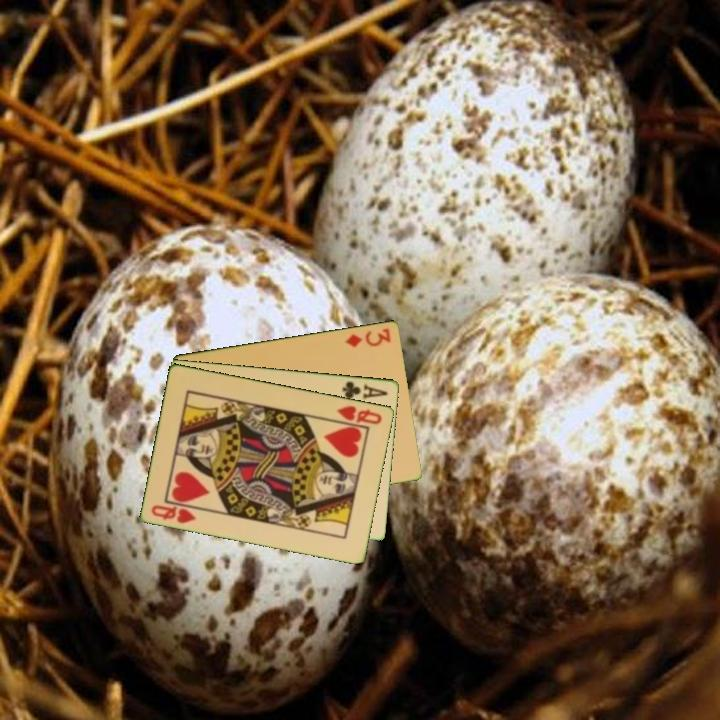3d: (341, 324, 394, 350)
Ac: (339, 378, 391, 402)
Qh: (148, 499, 200, 526), (333, 402, 385, 427)
